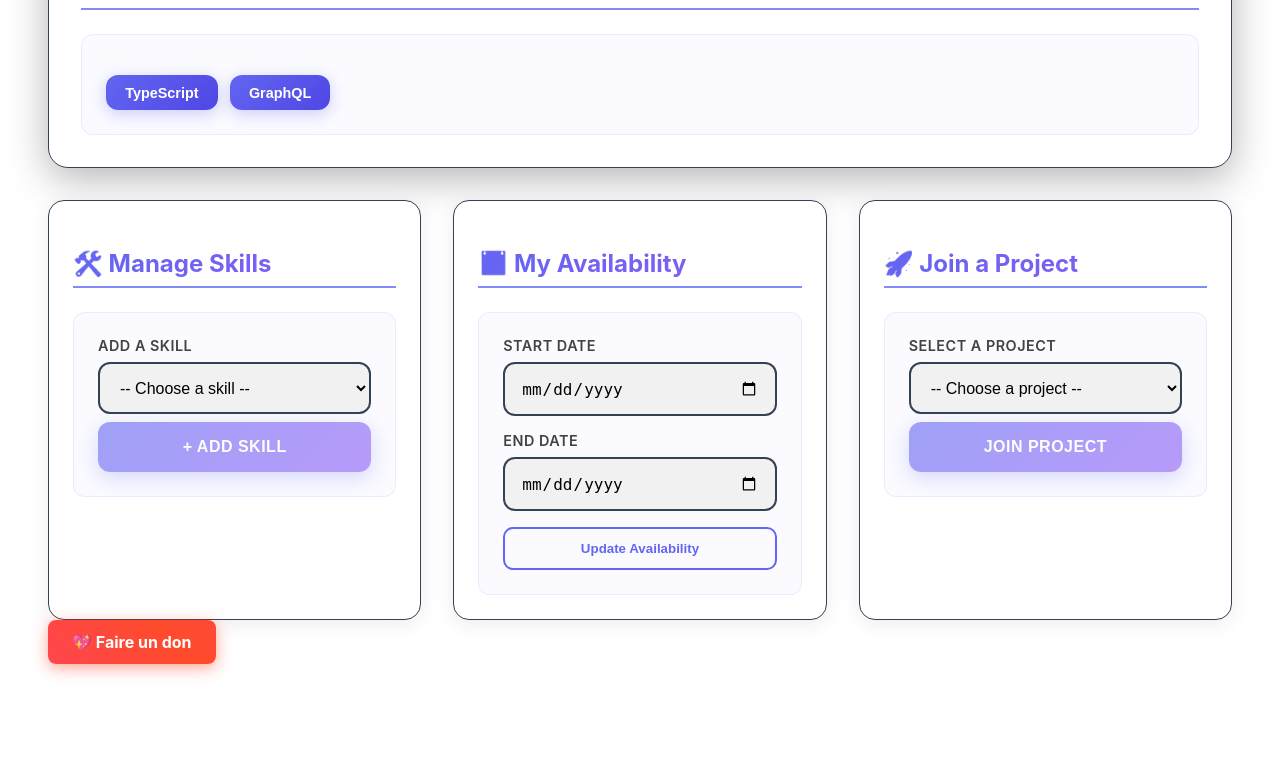
Test: Home Component - Complete Coverage › Gestion des compétences › ajoute une nouvelle compétence avec succès
The image size is (1280, 776).
(page scrolled)
Select "TypeScript" in the dropdown below "Add a skill" at (235, 388), box [98,362,371,414]
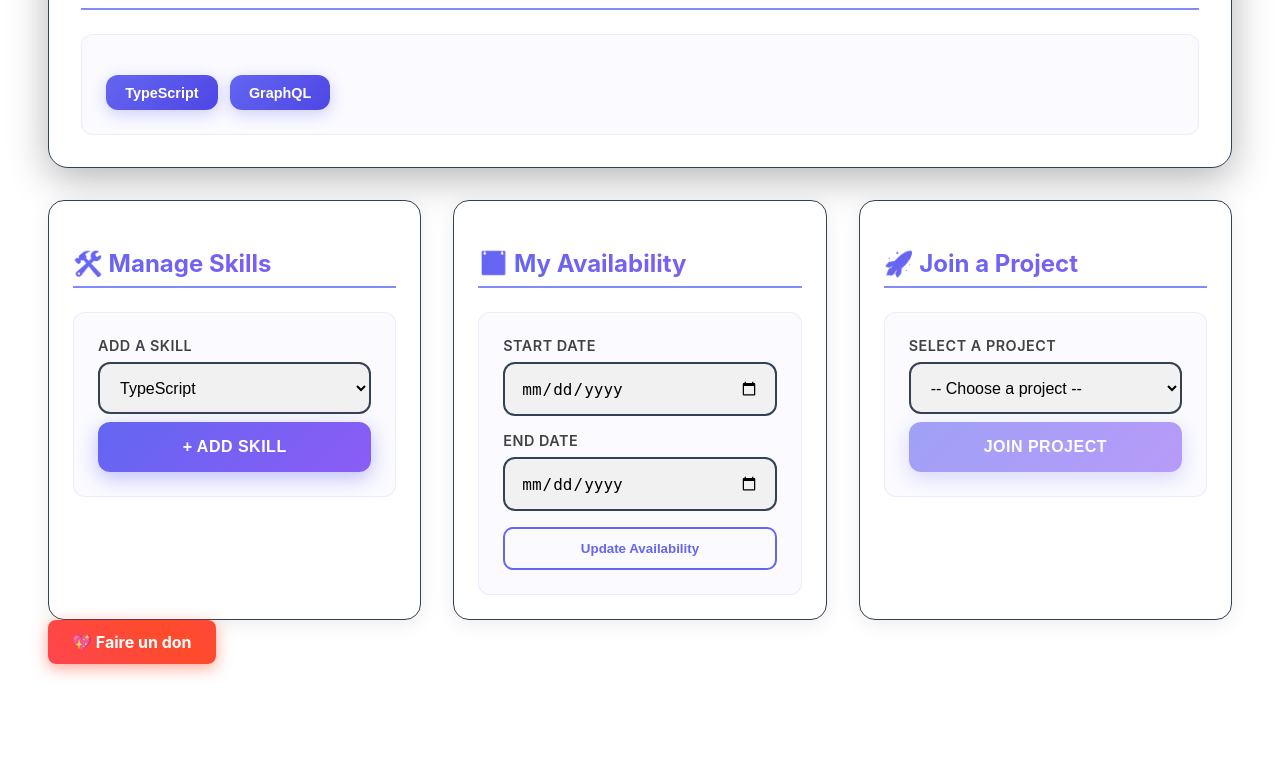
Click the button "+ Add Skill" at (235, 447), box [98,422,371,472]
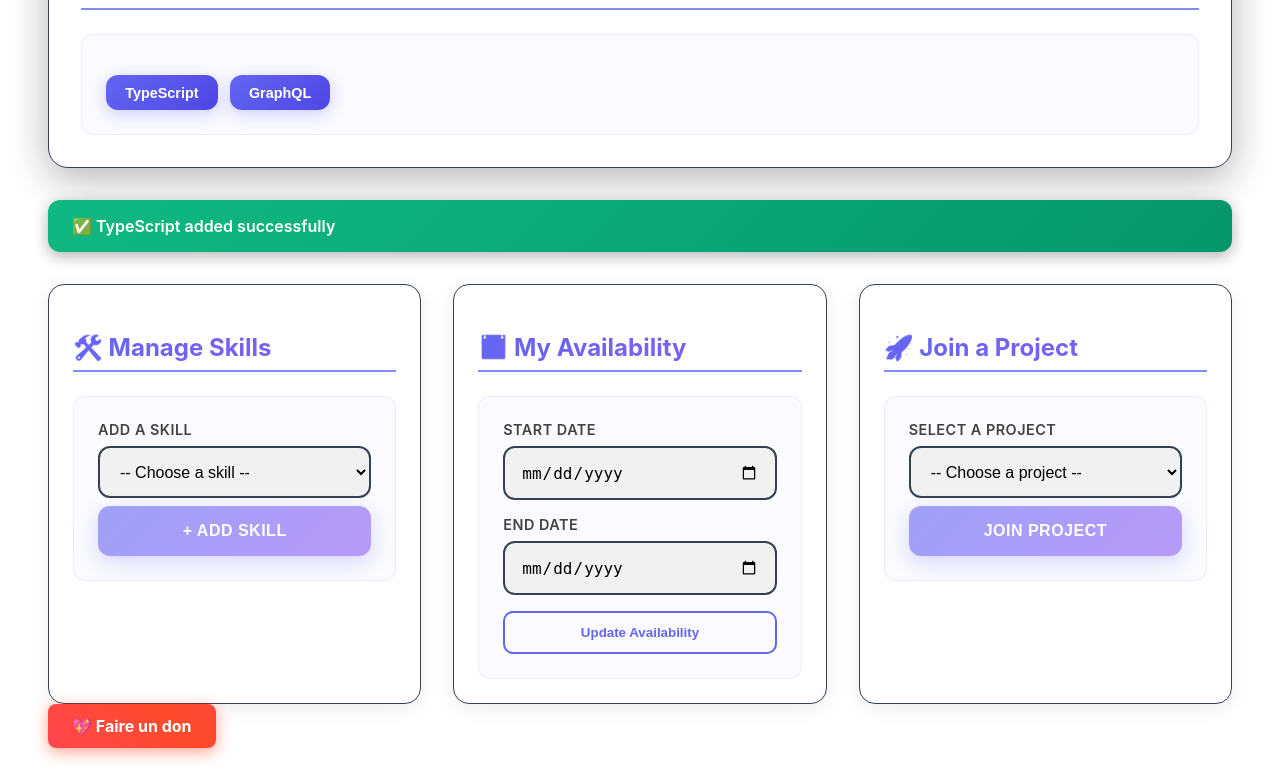
Check: the text "✅ TypeScript added successfully" is shown, box [48,200,1232,252]
